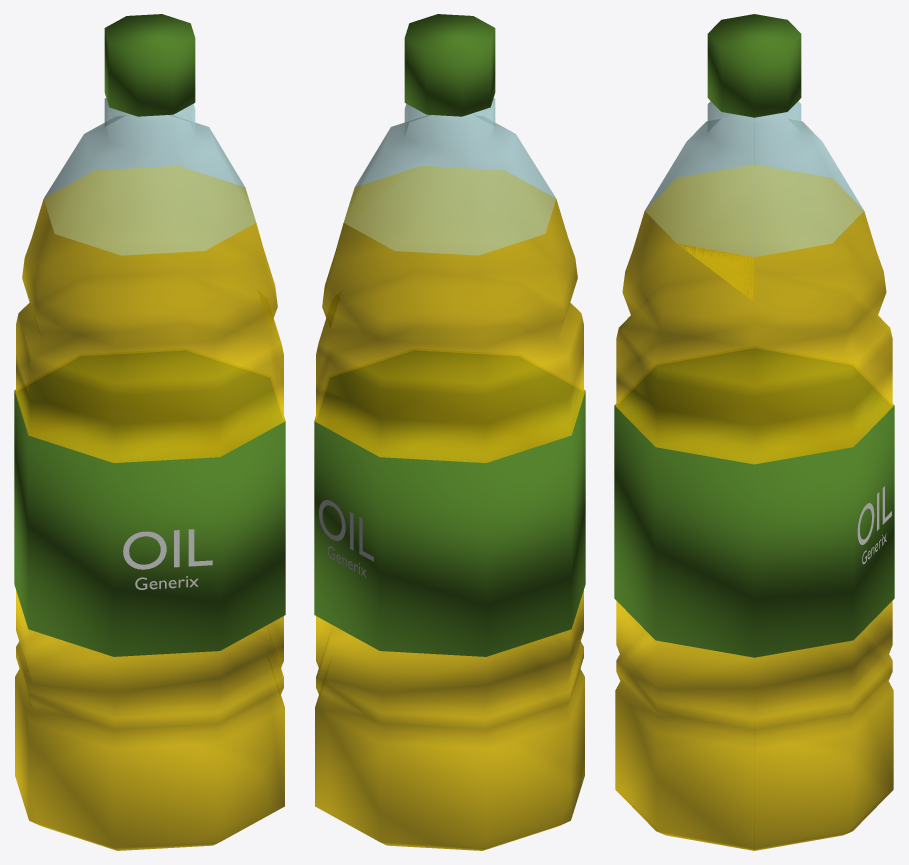
File: Oil.glb
3 renders of one model, left to right at view 1: azimuth 30°, elevation 25°; view 2: azimuth 150°, elevation 25°; view 3: azimuth 270°, elevation 25°, orthographic.
Visible parts, largest first — view 1: Oil; view 2: Oil; view 3: Oil.
Part boxes in pixels (bbox=[...]): Oil: bbox=[14, 14, 285, 850]; Oil: bbox=[314, 14, 585, 850]; Oil: bbox=[614, 14, 894, 850].
Bounding box in the file's own units: 2.01 × 6.11 × 2.01.
